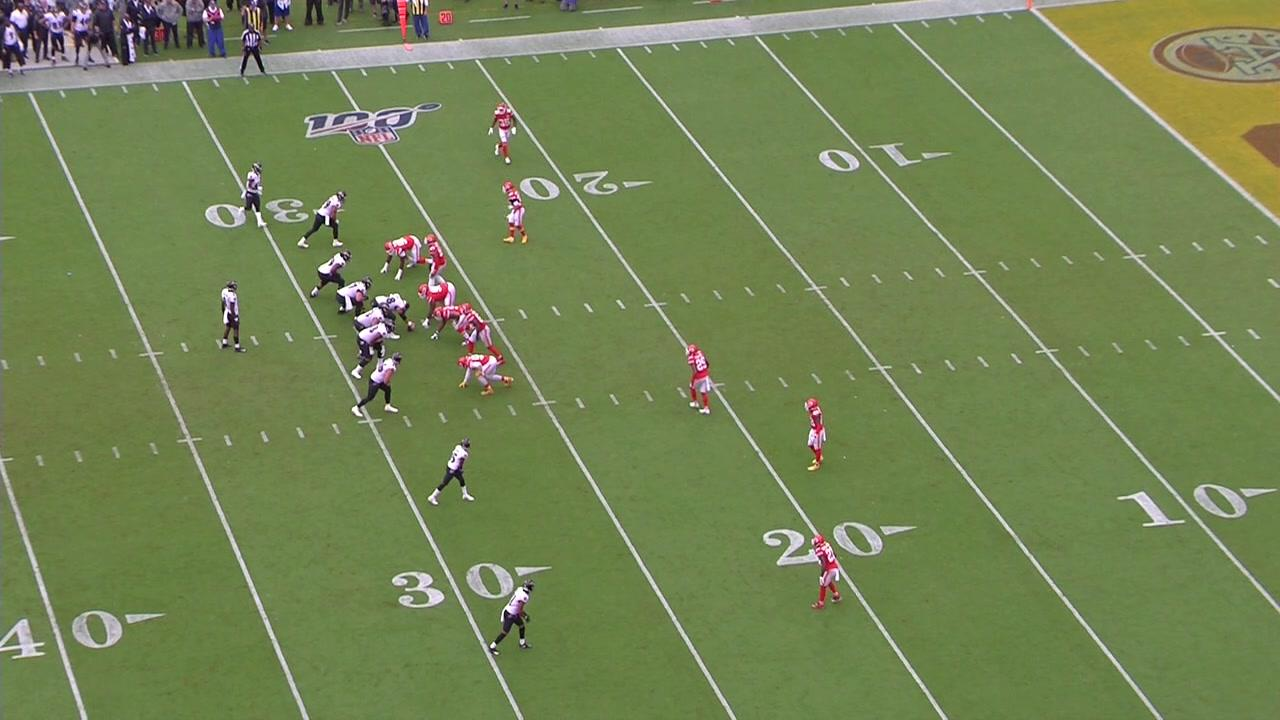defense: (459, 301, 505, 368), (808, 533, 845, 613), (378, 232, 433, 281), (455, 353, 515, 397), (682, 342, 714, 417), (801, 394, 830, 473), (486, 101, 520, 166), (429, 304, 477, 348), (500, 180, 530, 247), (417, 280, 458, 328), (423, 232, 449, 286)
oline: (350, 317, 398, 381), (369, 291, 418, 342), (351, 301, 393, 360), (309, 248, 355, 300), (334, 275, 377, 318)
qb: (218, 277, 248, 354)
ref: (236, 21, 269, 80)
skill: (486, 577, 538, 657), (426, 433, 479, 507), (349, 350, 404, 420), (296, 189, 350, 250), (234, 160, 269, 231)
